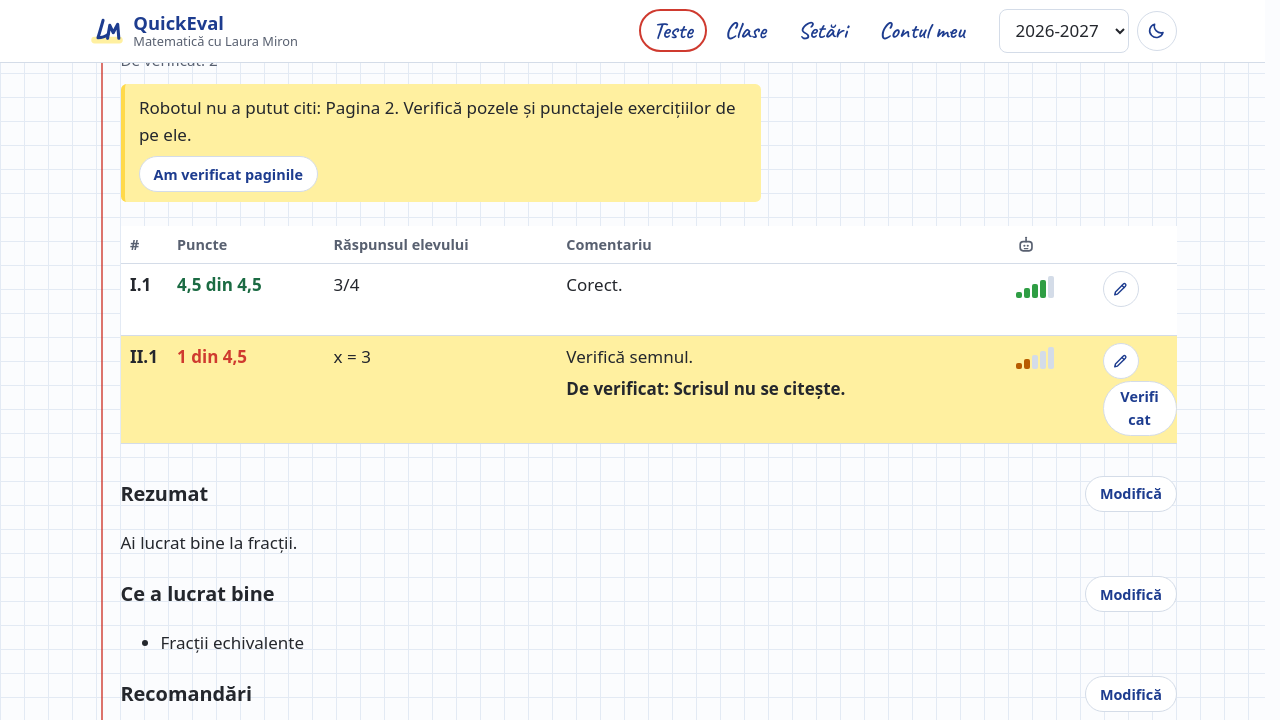
SubmissionPage › changes the points and the comment of an item, and checks it
This screenshot has width=1280, height=720.
(page scrolled)
Click the button named "Modifică Subiectul II, ex. 1": (1121, 361) top-left (1103, 343), bottom-right (1139, 379)
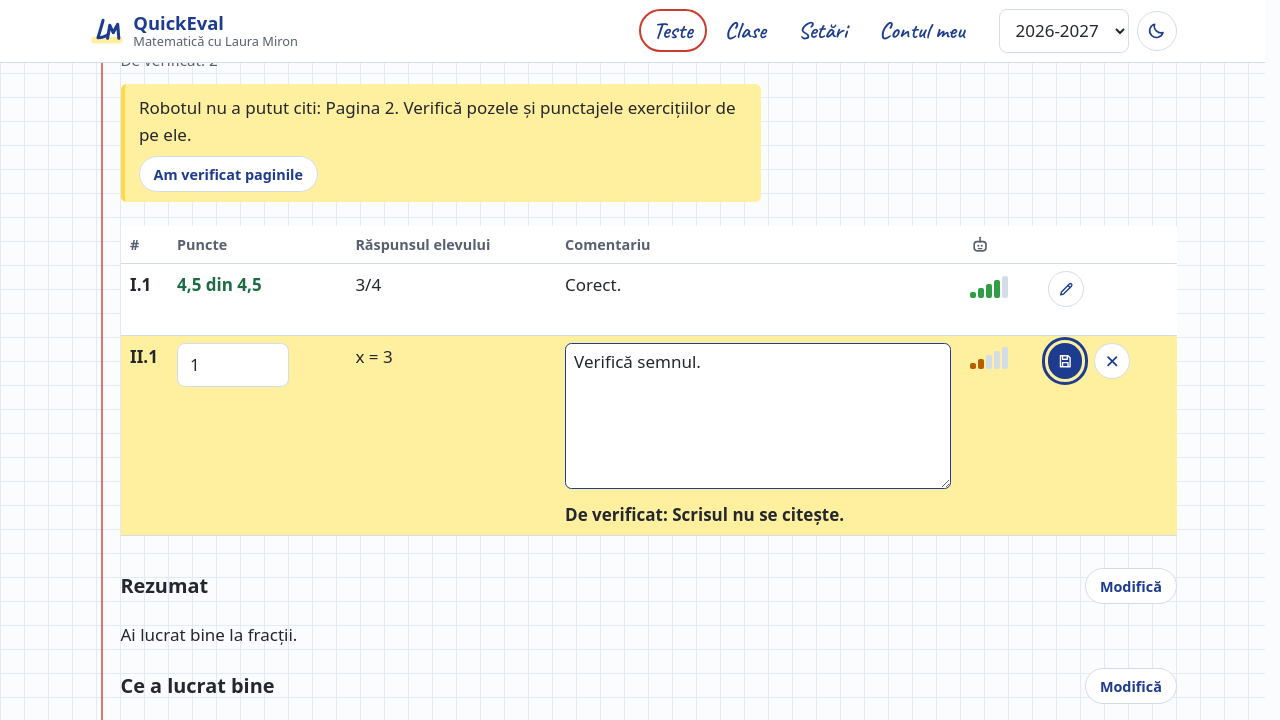
Result: the field named "Puncte pentru Subiectul II, ex. 1 (din 4,5)" holds "1"
Replace the text in the field named "Puncte pentru Subiectul II, ex. 1 (din 4,5)" with "3,5": (233, 365) top-left (177, 343), bottom-right (289, 387)
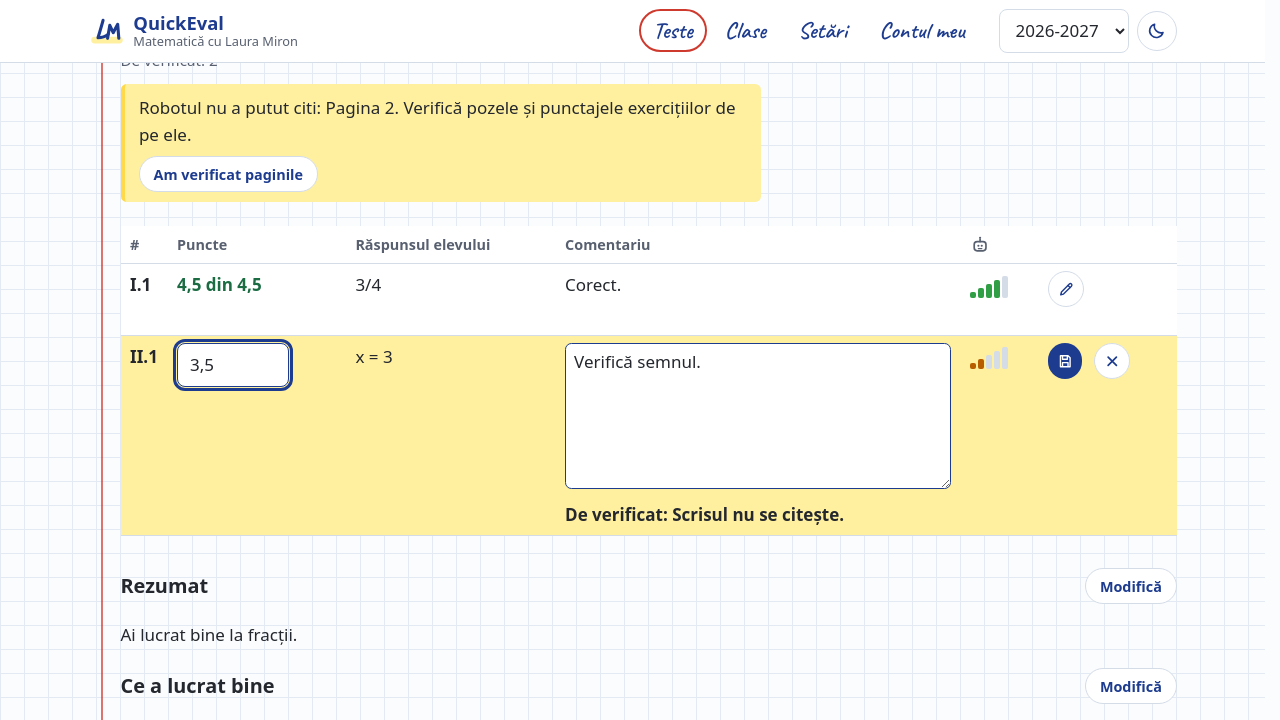
Replace the text in the text box named "Comentariul pentru elev" with "Bine, dar verifică semnul.": (758, 416) top-left (565, 343), bottom-right (951, 489)
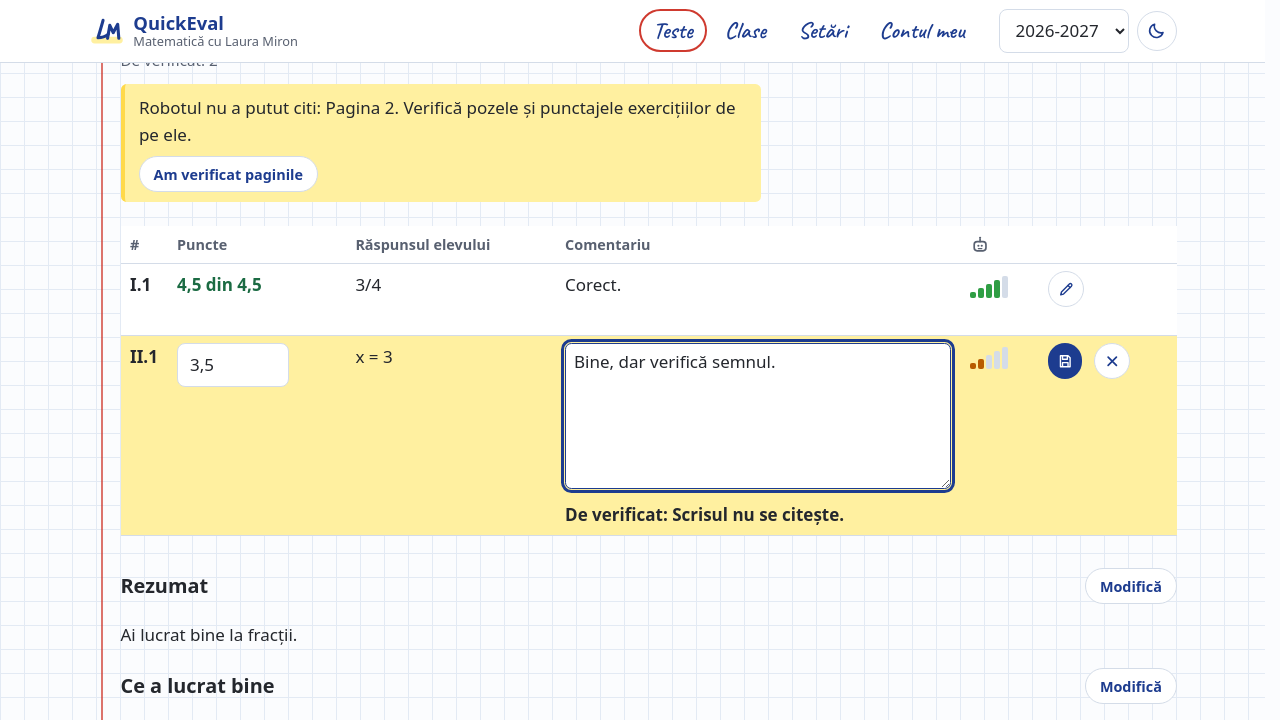
Click the button named "Salvează": (1065, 361) top-left (1048, 343), bottom-right (1082, 379)
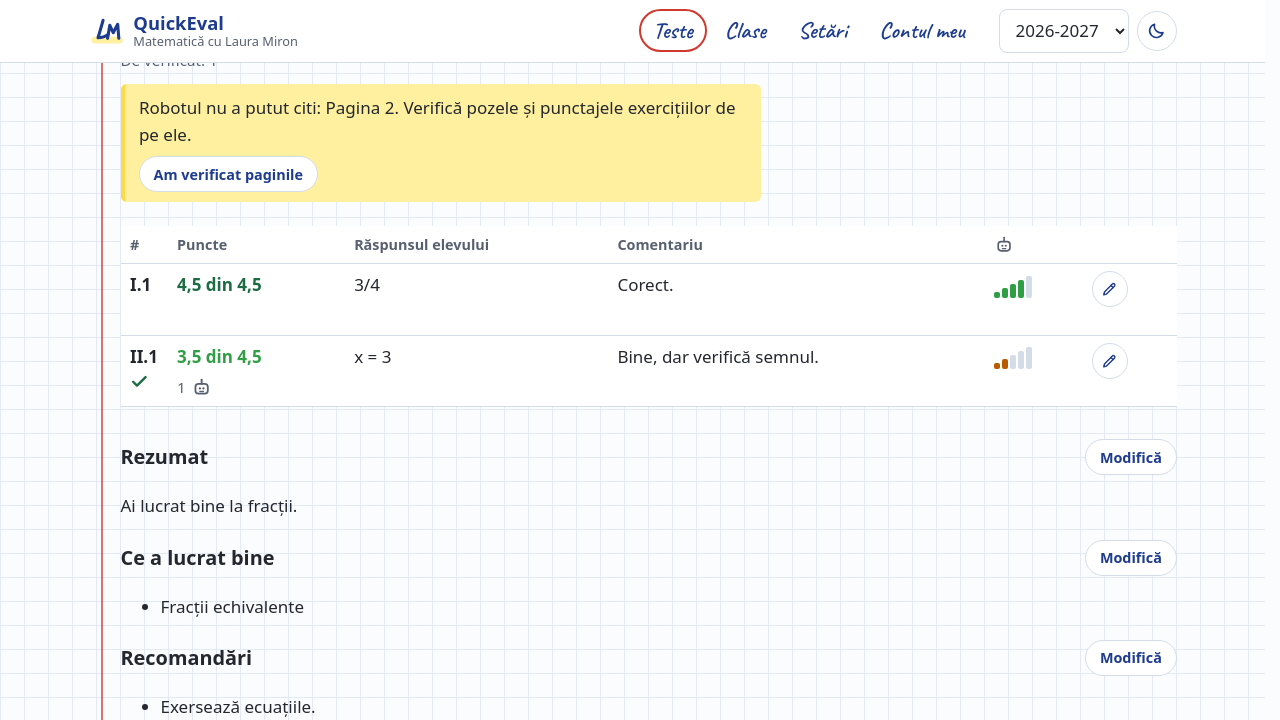
Expected: the field labelled "Comentariul pentru elev" is not shown
Result: the text "3,5 din 4,5" is shown at top-left (177, 345), bottom-right (262, 368)
Result: the text with class "ai-value" reads "1" at top-left (177, 377), bottom-right (186, 397)
